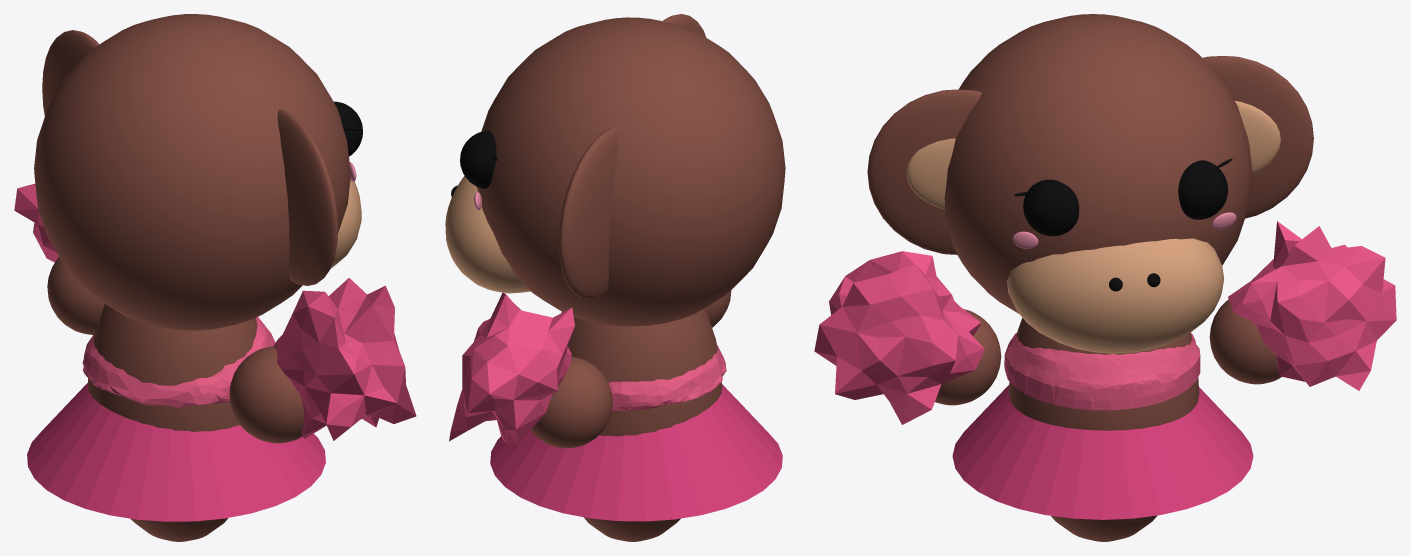
File: cheerleader monkey.fbx
3 views of the same model, side by side, from view 1: azimuth 30°, elevation 25°; view 2: azimuth 150°, elevation 25°; view 3: azimuth 270°, elevation 25° (orthographic). The views are drawn at different scales.
Parts seen in each view (by area): view 1: Sphere, Cone, Icosphere, Sphere.012, Sphere.004, Sphere.014, Cylinder, Sphere.013, Sphere.003, Sphere.007, Icosphere.001, Sphere.001; view 2: Sphere, Cone, Icosphere.001, Sphere.012, Sphere.003, Sphere.013, Sphere.007, Cylinder, Sphere.002, Sphere.014, Sphere.004; view 3: Sphere, Cone, Sphere.007, Icosphere, Icosphere.001, Cylinder, Sphere.004, Sphere.003, Sphere.012, Sphere.013, Sphere.001, Sphere.014 (+3 smaller).
Boxes of the visible parts, x1,y1,x2,y2 form: Sphere: (34,14,350,330); Cone: (27,383,325,521); Icosphere: (273,278,416,440); Sphere.012: (87,304,257,541); Sphere.004: (277,109,338,285); Sphere.014: (229,346,303,443); Cylinder: (82,317,275,407); Sphere.013: (47,257,104,334); Sphere.003: (42,30,99,116); Sphere.007: (330,180,361,268); Icosphere.001: (14,183,58,262); Sphere.001: (334,101,362,156); Sphere: (477,17,785,326); Cone: (490,384,782,521); Icosphere.001: (449,292,574,444); Sphere.012: (561,308,722,541); Sphere.003: (559,127,618,299); Sphere.013: (530,356,612,448); Sphere.007: (445,176,530,293); Cylinder: (608,345,726,410); Sphere.002: (460,130,496,188); Sphere.014: (705,290,731,327); Sphere.004: (663,14,706,37); Sphere: (944,14,1252,313); Cone: (952,385,1253,519); Sphere.007: (1007,238,1223,353); Icosphere: (814,251,984,424); Icosphere.001: (1228,221,1396,390); Cylinder: (1004,333,1200,410); Sphere.004: (867,89,981,254); Sphere.003: (1202,56,1313,218); Sphere.012: (1008,318,1199,541); Sphere.013: (1209,299,1281,384); Sphere.001: (1023,179,1079,236); Sphere.014: (935,309,1001,405).
Size of the model in its own units: 218 by 355 by 365.
